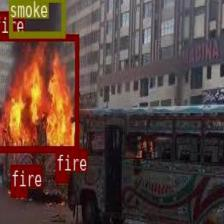fire: (0, 33, 78, 151), (55, 170, 67, 181), (10, 188, 26, 196)
smoke: (8, 0, 64, 36)
